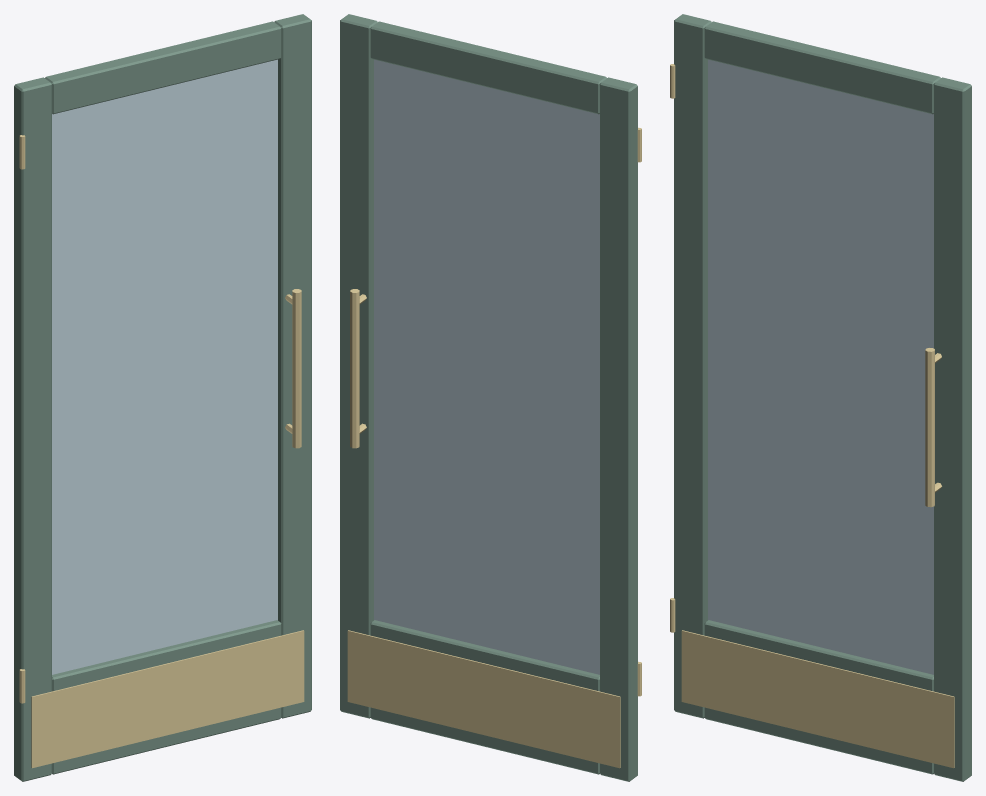
File: door_shop.glb
3 views of the same model, side by side, from view 1: azimuth 30°, elevation 25°; view 2: azimuth 150°, elevation 25°; view 3: azimuth 330°, elevation 25° (orthographic).
Parts seen in each view (by area): view 1: door_shop_glass, door_shop_shop_f, door_shop_brass; view 2: door_shop_glass, door_shop_shop_f, door_shop_brass; view 3: door_shop_glass, door_shop_shop_f, door_shop_brass.
Part boxes in pixels (x1,y1,x2,y2): door_shop_glass: (52, 59, 277, 674); door_shop_shop_f: (14, 14, 311, 781); door_shop_brass: (19, 135, 304, 768); door_shop_glass: (374, 59, 599, 674); door_shop_shop_f: (340, 14, 637, 781); door_shop_brass: (347, 127, 641, 768); door_shop_glass: (708, 59, 933, 674); door_shop_shop_f: (674, 14, 971, 781); door_shop_brass: (670, 64, 954, 768).
Bounding box in the file's own units: 0.948 × 2.14 × 0.178.
